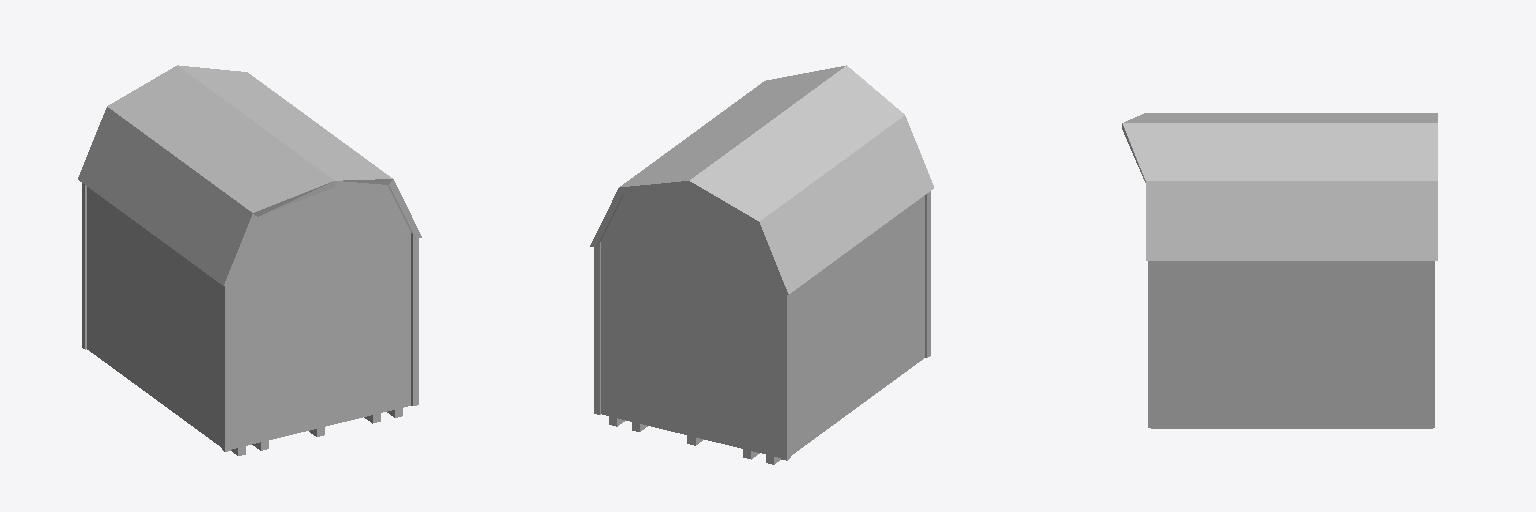
Rendered from High Wall Barns_8x10.obj.
3 views of the same model, side by side, from view 1: azimuth 30°, elevation 25°; view 2: azimuth 150°, elevation 25°; view 3: azimuth 270°, elevation 25° (orthographic).
Parts seen in each view (by area): view 1: High Wall Barns_8x10.obj; view 2: High Wall Barns_8x10.obj; view 3: High Wall Barns_8x10.obj.
Boxes of the visible parts, x1,y1,x2,y2 form: High Wall Barns_8x10.obj: [78, 65, 421, 455]; High Wall Barns_8x10.obj: [590, 65, 933, 464]; High Wall Barns_8x10.obj: [1122, 113, 1437, 428].
Size of the model in its own units: 2.48 by 3.17 by 3.4.